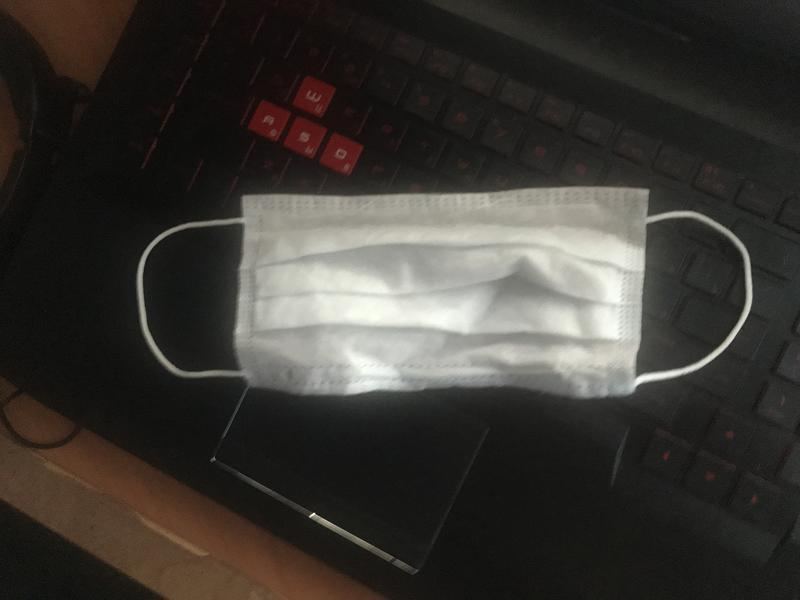medical_mask: (137, 188, 753, 393)
